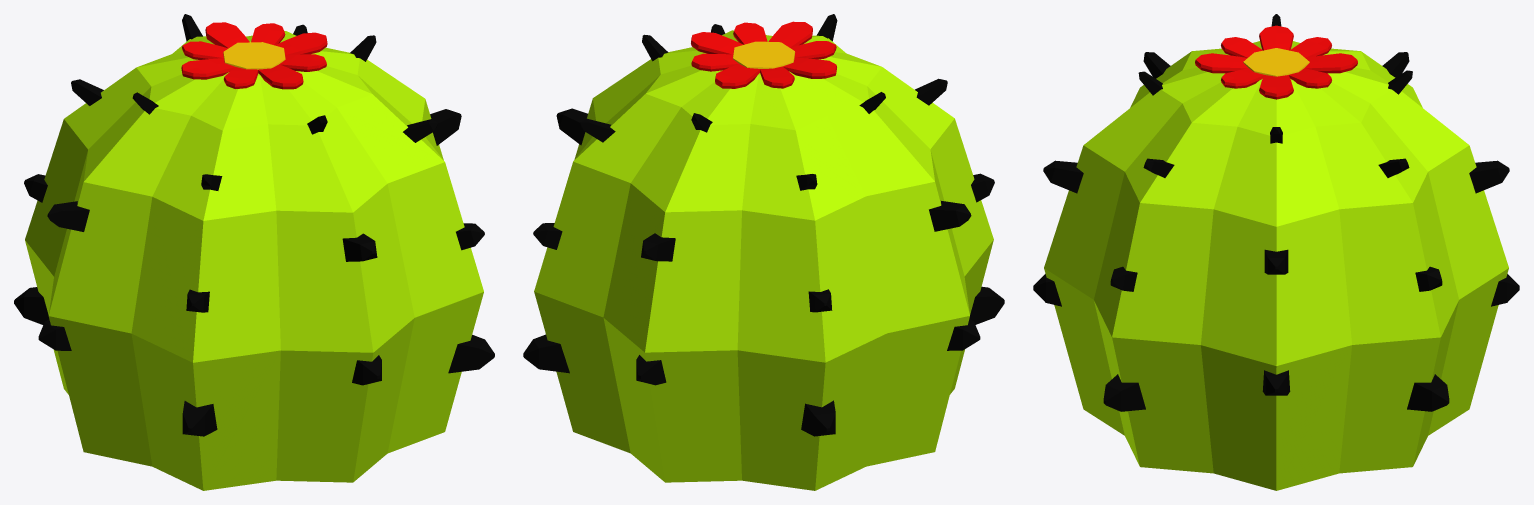
Rendered from Cardon06_00Brazos_Flor_Roja.fbx.
3 views of the same model, side by side, from view 1: azimuth 30°, elevation 25°; view 2: azimuth 150°, elevation 25°; view 3: azimuth 270°, elevation 25° (orthographic). The views are drawn at different scales.
Parts seen in each view (by area): view 1: Cactus, Espinas, Flor_Roja; view 2: Cactus, Espinas, Flor_Roja; view 3: Cactus, Espinas, Flor_Roja.
Part boxes in pixels (box(x1,y1,x2,y2)): Cactus: box(25, 31, 483, 490); Espinas: box(14, 14, 494, 436); Flor_Roja: box(181, 22, 327, 89); Cactus: box(534, 30, 993, 490); Espinas: box(523, 14, 1004, 436); Flor_Roja: box(691, 21, 836, 88); Cactus: box(1044, 41, 1508, 490); Espinas: box(1033, 14, 1519, 411); Flor_Roja: box(1195, 25, 1357, 99).
Bounding box in the file's own units: 47.77 × 37.93 × 47.77.
